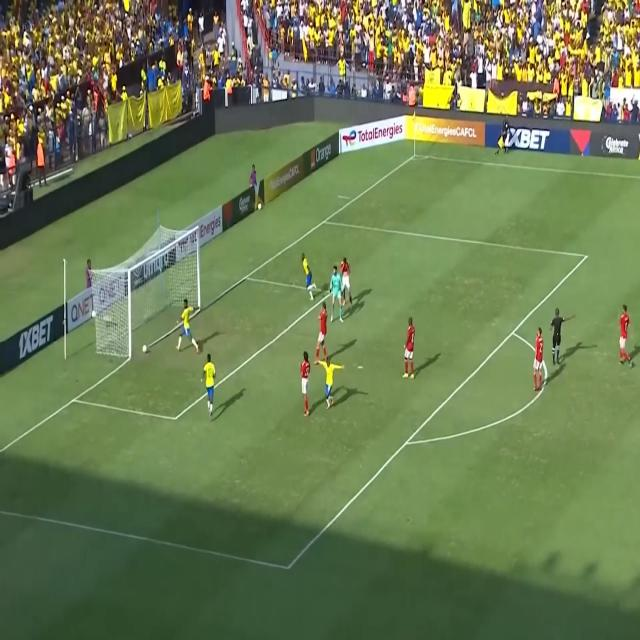Ball: (141, 340, 148, 355)
Keeper: (328, 264, 344, 323)
Player: (314, 357, 344, 408), (176, 298, 202, 353), (200, 354, 220, 421), (616, 303, 634, 372), (300, 352, 316, 416), (302, 250, 317, 302), (533, 326, 544, 395), (405, 318, 416, 383), (316, 306, 328, 362), (342, 258, 353, 311)
Ref: (550, 307, 576, 365), (496, 117, 508, 160)
